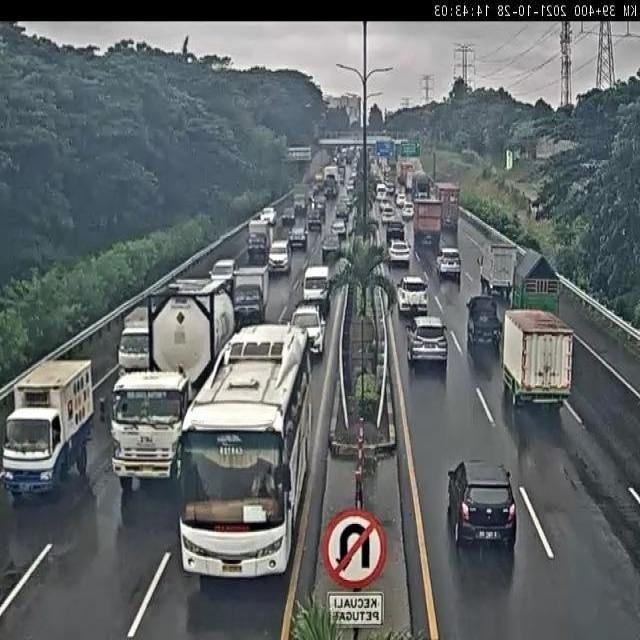Bus: (177, 320, 314, 578)
Car: (447, 459, 515, 554), (406, 315, 448, 369), (290, 302, 326, 359), (396, 275, 429, 315), (436, 247, 462, 280), (268, 241, 291, 273), (388, 239, 411, 267), (289, 227, 308, 252), (307, 208, 323, 232), (258, 207, 277, 226), (336, 200, 350, 222), (281, 207, 296, 227), (332, 218, 346, 237), (313, 197, 326, 217), (382, 203, 394, 221), (402, 203, 414, 220), (396, 192, 406, 208), (385, 182, 395, 195)
Truck: (114, 282, 235, 484), (3, 360, 94, 498), (501, 308, 572, 409), (512, 248, 560, 312), (232, 264, 270, 328), (466, 295, 503, 352), (482, 243, 517, 302), (413, 197, 443, 251), (436, 183, 462, 234), (248, 217, 272, 261)
Van: (302, 264, 330, 312)
